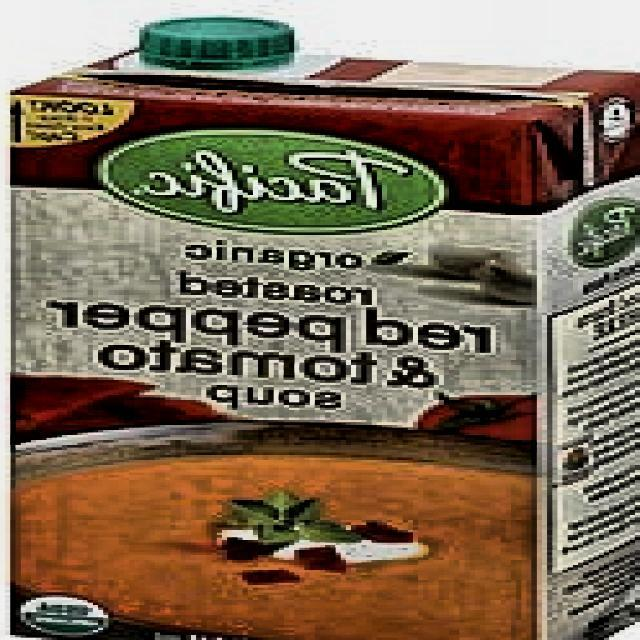cardboard: (10, 40, 640, 640)
